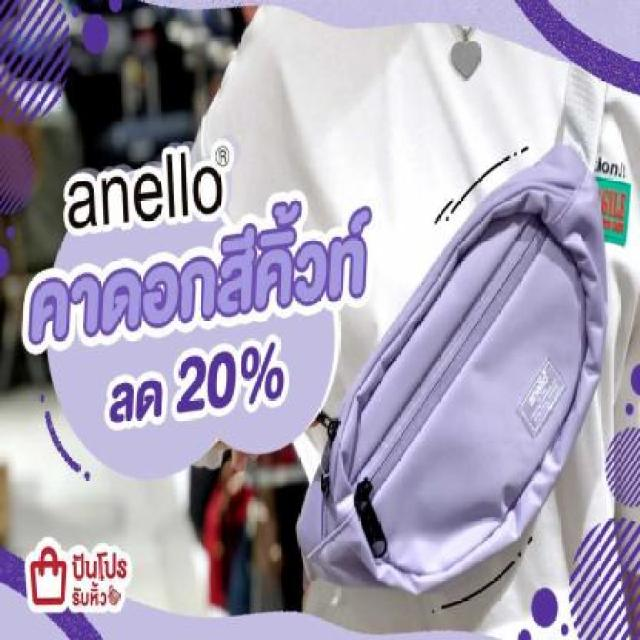Bag: (283, 48, 631, 606)
